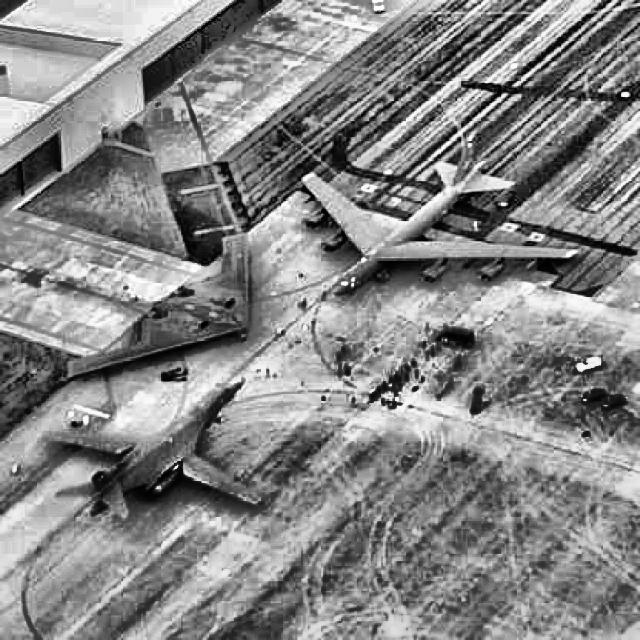B1: (42, 377, 262, 520)
B2: (66, 232, 249, 379)
B52: (301, 130, 579, 296)
